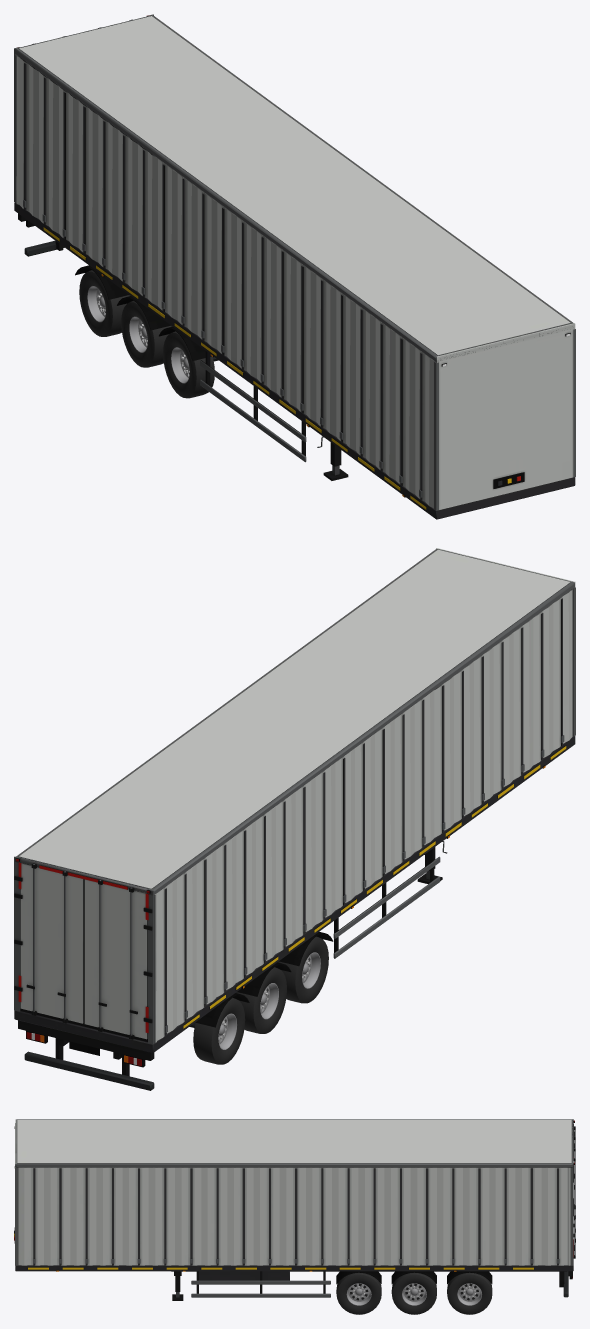
The model's file is auflieger.glb.
The picture shows the model from 3 angles, top to bottom: view 1: azimuth 30°, elevation 25°; view 2: azimuth 150°, elevation 25°; view 3: azimuth 270°, elevation 25°; orthographic projection. The views are drawn at different scales.
Parts seen in each view (by area): view 1: koerper, rad_hr_gummi, rad_hr2_gummi, rad_hr3_gummi; view 2: koerper, rad_hr3_gummi, rad_hr_gummi, rad_hr2_gummi; view 3: koerper, rad_hl_gummi, rad_hl2_gummi, rad_hl3_gummi, rad_hl_metall, rad_hl2_metall, rad_hl3_metall.
Part boxes in pixels (bbox=[...]): koerper: bbox=[14, 14, 575, 519]; rad_hr_gummi: bbox=[163, 331, 214, 398]; rad_hr2_gummi: bbox=[121, 300, 170, 367]; rad_hr3_gummi: bbox=[79, 270, 128, 336]; koerper: bbox=[14, 548, 575, 1090]; rad_hr3_gummi: bbox=[193, 997, 245, 1064]; rad_hr_gummi: bbox=[279, 936, 328, 1003]; rad_hr2_gummi: bbox=[237, 967, 286, 1033]; koerper: bbox=[14, 1119, 575, 1300]; rad_hl_gummi: bbox=[336, 1272, 381, 1314]; rad_hl2_gummi: bbox=[391, 1272, 436, 1314]; rad_hl3_gummi: bbox=[447, 1272, 492, 1314]; rad_hl_metall: bbox=[346, 1283, 371, 1305]; rad_hl2_metall: bbox=[402, 1283, 426, 1305]; rad_hl3_metall: bbox=[457, 1283, 481, 1305].
Bounding box in the file's own units: 2.58 × 3.98 × 13.31.
Materials: 3 (1 with a texture image).
